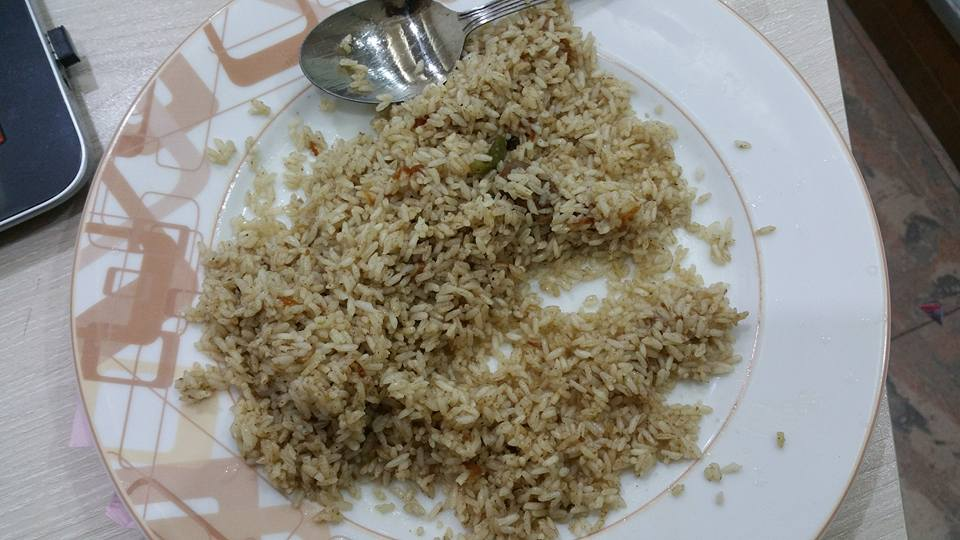tehari: (210, 7, 754, 539)
